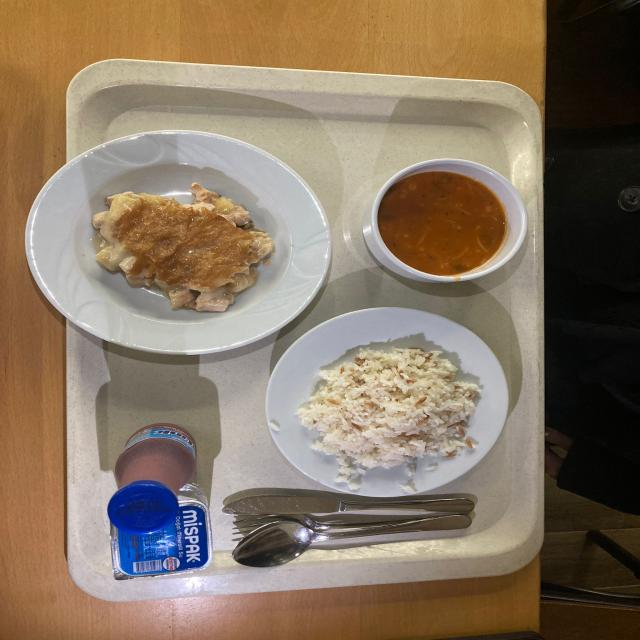ana_yemek: (23, 129, 324, 340), (265, 315, 504, 487)
corba: (365, 157, 526, 283)
